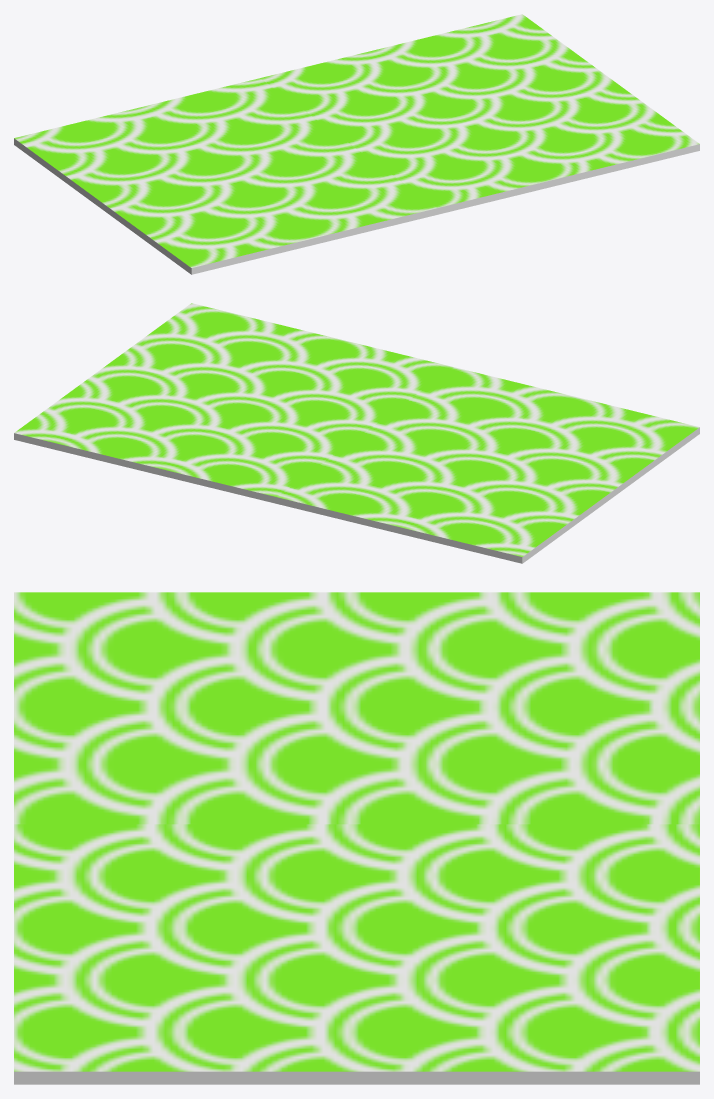
The picture shows the model from 3 angles, top to bottom: view 1: azimuth 30°, elevation 25°; view 2: azimuth 150°, elevation 25°; view 3: azimuth 270°, elevation 25°; orthographic projection. The views are drawn at different scales.
Parts seen in each view (by area): view 1: Mat_B; view 2: Mat_B; view 3: Mat_B.
Boxes of the visible parts, <box> form: Mat_B: <box>14,14,699,274</box>; Mat_B: <box>14,303,699,563</box>; Mat_B: <box>14,592,699,1084</box>.
Size of the model in its own units: 268 by 3.38 by 162.
